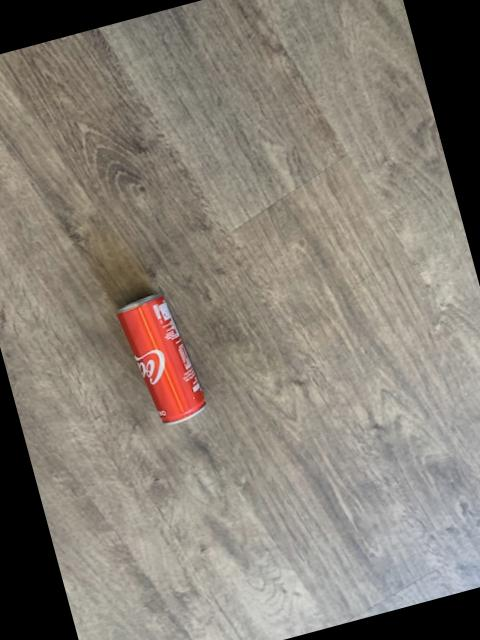metal: (114, 292, 202, 422)
